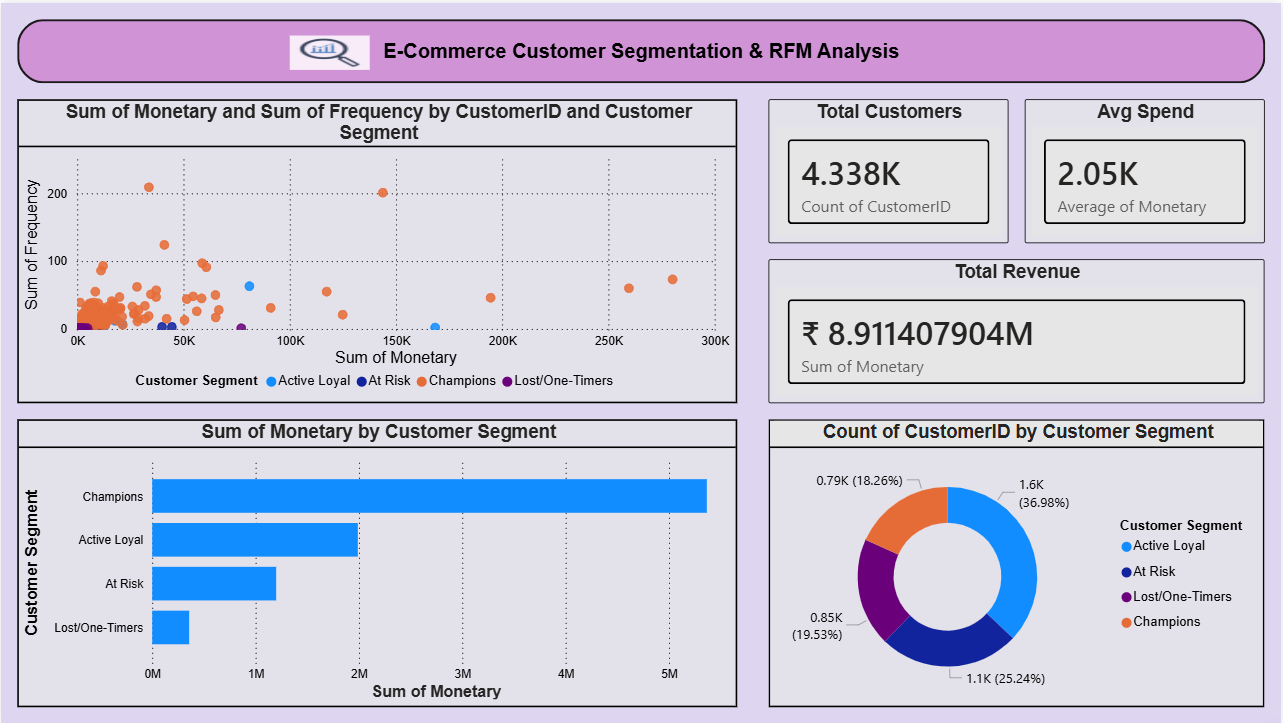

What the dashboard file says about the page in this screenshot:
{"tool":"powerbi","page":{"name":"Page 1","canvas":[1280,720],"ordinal":0},"visuals":[{"type":"cardVisual","title":"Total Customers","fields":{"Data":["Count(rfm4bi (1).CustomerID)"]},"box":[768,96,240,144],"z":0},{"type":"cardVisual","title":"Total Revenue","fields":{"Data":["Sum(rfm4bi (1).Monetary)"]},"box":[768,256,496,144],"z":1000},{"type":"cardVisual","title":"Avg Spend","fields":{"Data":["Avg(rfm4bi (1).Monetary)"]},"box":[1024,96,240,144],"z":2000},{"type":"donutChart","fields":{"Y":["CountNonNull(rfm4bi (1).CustomerID)"],"Category":["rfm4bi (1).Customer Segment"]},"box":[768,416,496,288],"z":3000},{"type":"scatterChart","fields":{"Category":["rfm4bi (1).CustomerID"],"Series":["rfm4bi (1).Customer Segment"],"X":["Sum(rfm4bi (1).Monetary)"],"Y":["Sum(rfm4bi (1).Frequency)"]},"box":[16,96,720,304],"z":4000},{"type":"clusteredBarChart","fields":{"Category":["rfm4bi (1).Customer Segment"],"Y":["Sum(rfm4bi (1).Monetary)"]},"box":[16,416,720,288],"z":5000},{"type":"shape","box":[16,16,1248,64],"z":6000,"group":"g1"},{"type":"image","box":[288,32,80,34],"z":6001,"group":"g1"},{"type":"group","id":"g1","title":"Group 1","box":[16,16,1248,64],"z":6002}]}

Visuals, with their boxes in screenshot pixels (x1, y1, x2, y2), scaled from the page's 1280x720 canvas onto the 1283x723 screenshot:
"Total Customers" cardVisual: left=770, top=96, right=1010, bottom=241
"Total Revenue" cardVisual: left=770, top=257, right=1267, bottom=402
"Avg Spend" cardVisual: left=1026, top=96, right=1267, bottom=241
donutChart - CountNonNull(rfm4bi (1).CustomerID) x rfm4bi (1).Customer Segment: left=770, top=418, right=1267, bottom=707
scatterChart - rfm4bi (1).CustomerID x rfm4bi (1).Customer Segment: left=16, top=96, right=738, bottom=402
clusteredBarChart - rfm4bi (1).Customer Segment x Sum(rfm4bi (1).Monetary): left=16, top=418, right=738, bottom=707
shape: left=16, top=16, right=1267, bottom=80
image: left=289, top=32, right=369, bottom=66
"Group 1" group: left=16, top=16, right=1267, bottom=80
